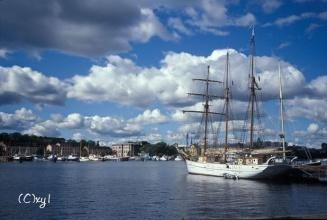fanchuan: (182, 34, 302, 178)
